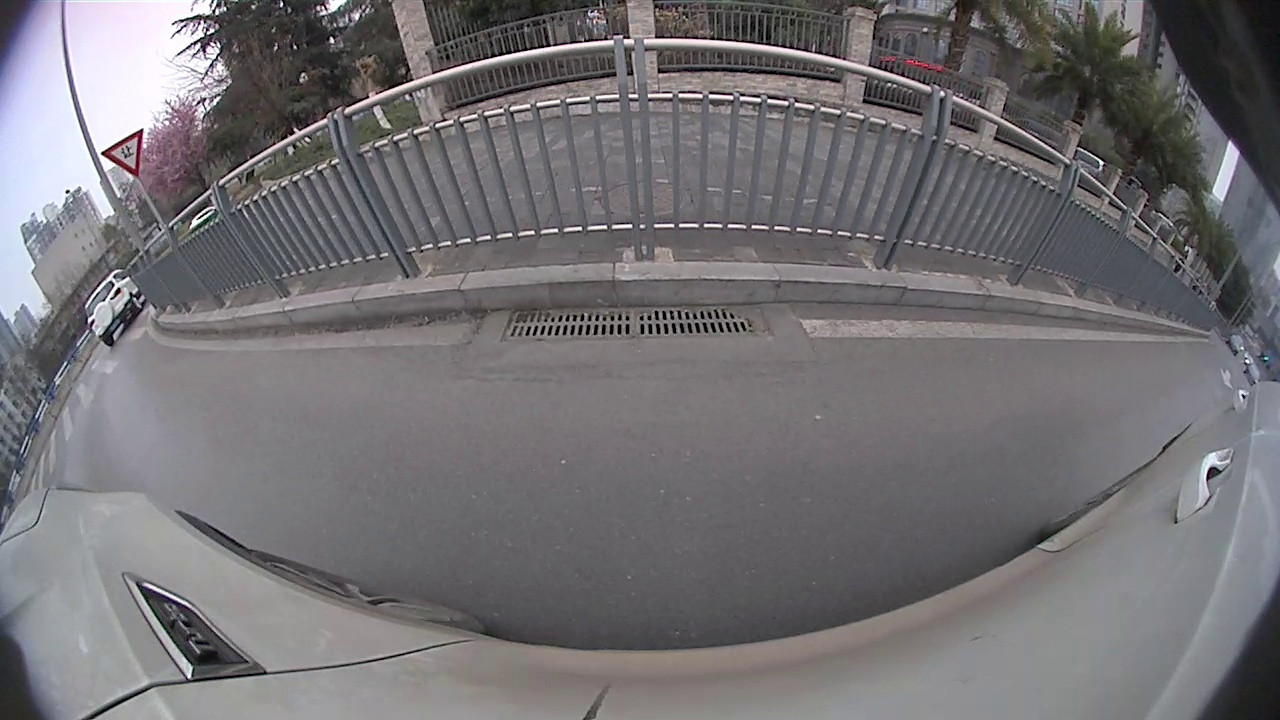car: (83, 268, 146, 348)
rear: (129, 294, 147, 315)
